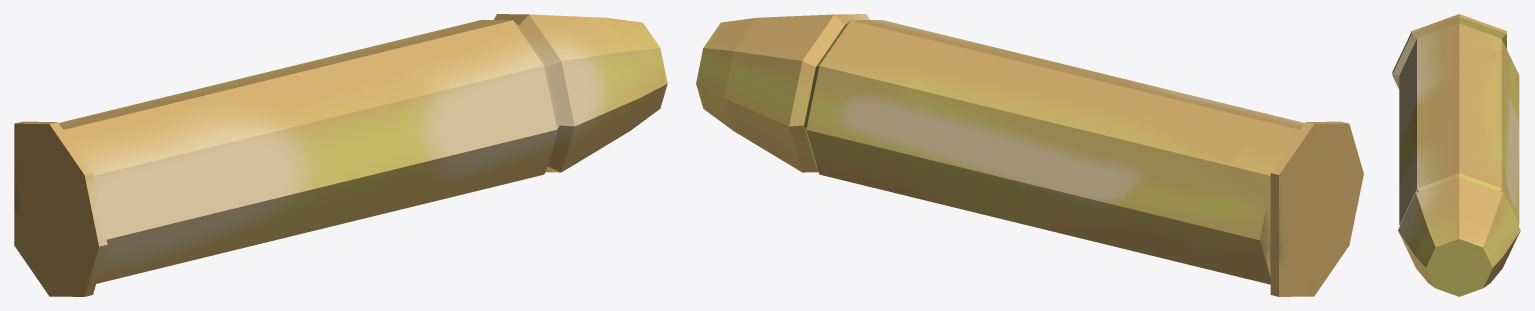
Rendered from bala.fbx.
The picture shows the model from 3 angles, left to right: view 1: azimuth 30°, elevation 25°; view 2: azimuth 150°, elevation 25°; view 3: azimuth 270°, elevation 25°; orthographic projection. The views are drawn at different scales.
Visible parts, largest first — view 1: Cylinder; view 2: Cylinder; view 3: Cylinder.
Part boxes in pixels (left/top/right/bottom): Cylinder: left=14, top=14, right=667, bottom=296; Cylinder: left=696, top=14, right=1363, bottom=296; Cylinder: left=1392, top=14, right=1520, bottom=296.
Size of the model in its own units: 212 by 58.88 by 58.94.
